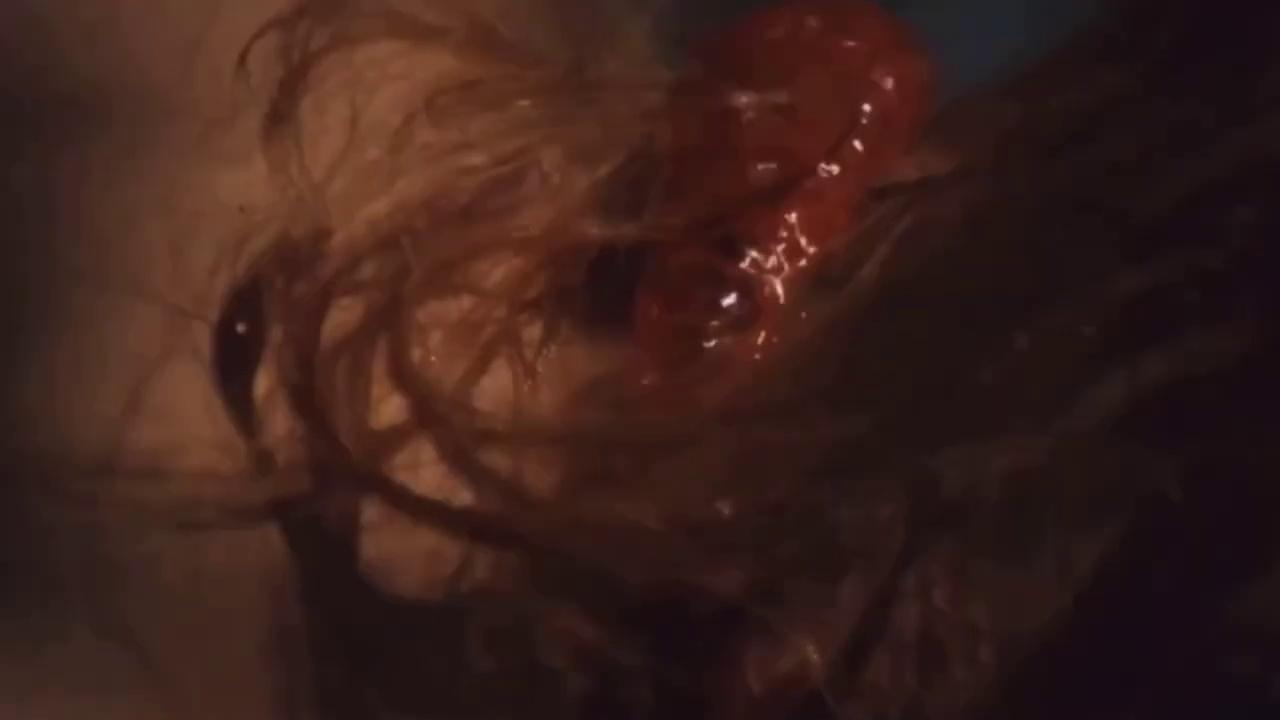Fire: (635, 1, 935, 380)
